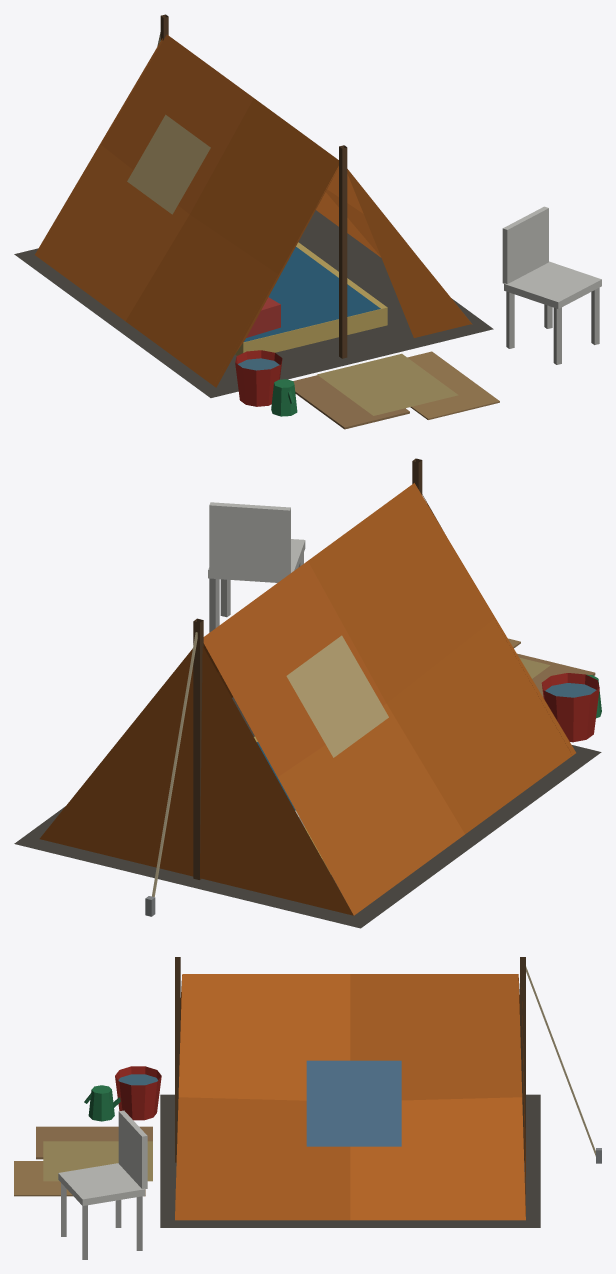
File: ns_mytent_lod1.glb
3 views of the same model, one above another, from view 1: azimuth 30°, elevation 25°; view 2: azimuth 150°, elevation 25°; view 3: azimuth 270°, elevation 25° (orthographic). The views are drawn at different scales.
Parts seen in each view (by area): view 1: ns_mytent_lod1; view 2: ns_mytent_lod1; view 3: ns_mytent_lod1.
Part boxes in pixels (bbox=[...]): ns_mytent_lod1: bbox=[14, 14, 601, 429]; ns_mytent_lod1: bbox=[14, 458, 601, 928]; ns_mytent_lod1: bbox=[14, 957, 601, 1259].
Size of the model in its own units: 2.68 by 1.54 by 4.02.
